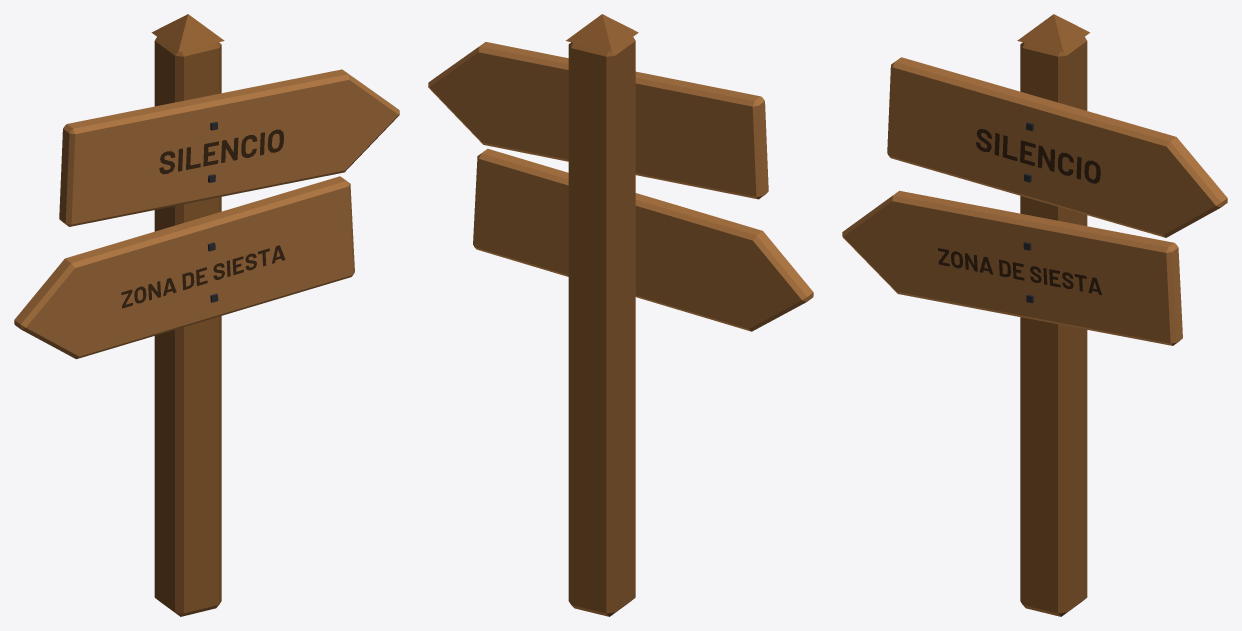
The model's file is Prop_SignCarvedArrows.fbx.
The picture shows the model from 3 angles, left to right: view 1: azimuth 30°, elevation 25°; view 2: azimuth 150°, elevation 25°; view 3: azimuth 330°, elevation 25°; orthographic projection.
Visible parts, largest first — view 1: Prop_SignCarvedArrows; view 2: Prop_SignCarvedArrows; view 3: Prop_SignCarvedArrows.
Boxes of the visible parts, box(x1,y1,x2,y2) form: Prop_SignCarvedArrows: box(14, 14, 399, 616); Prop_SignCarvedArrows: box(428, 14, 813, 616); Prop_SignCarvedArrows: box(842, 14, 1227, 616).
Bounding box in the file's own units: 1.22 × 1.82 × 0.218.
